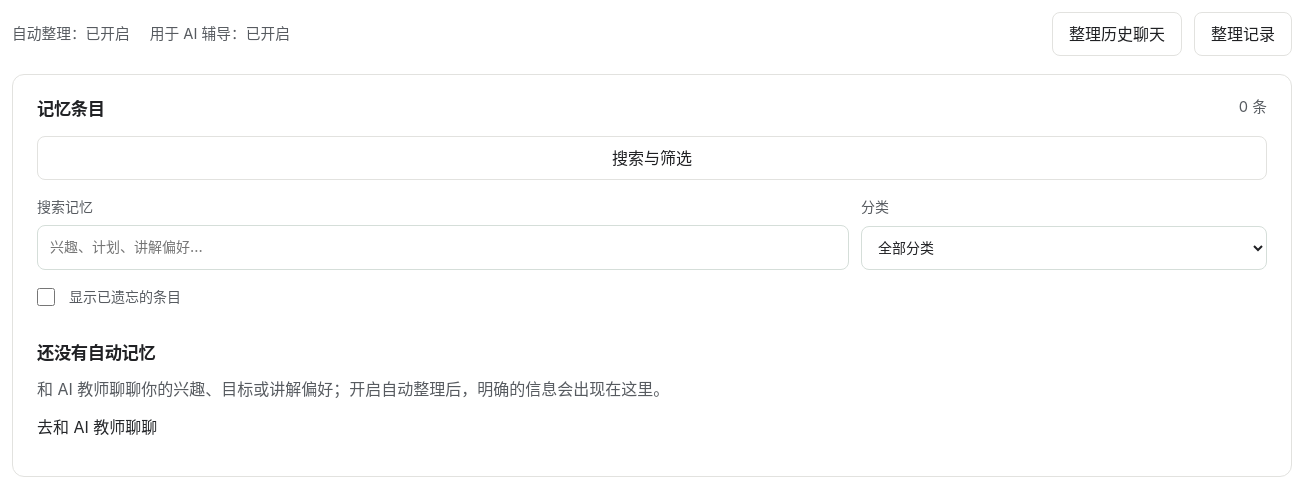
it: distinguishes empty memory from filter misses and hides unnecessary pagination
The image size is (1304, 494).
Check: the heading "还没有自动记忆" is shown, box [37,340,156,364]
In the search field: [443, 248] box [37,226,849,270], type "不存在"
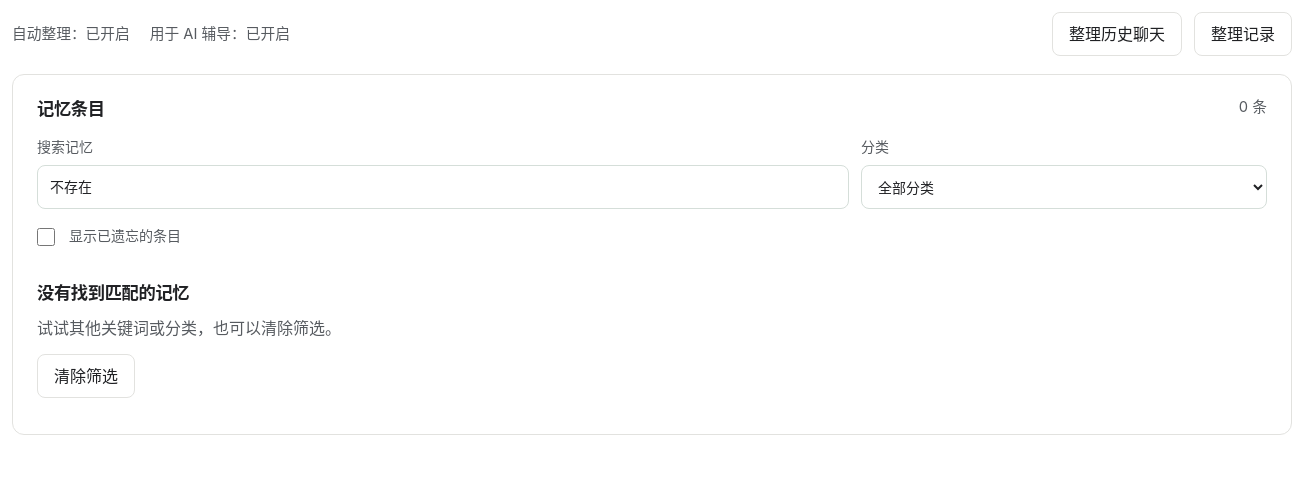
Check: the heading "没有找到匹配的记忆" is shown, box [37,280,189,303]
Click the button "清除筛选": [86, 376] box [37,354,135,398]
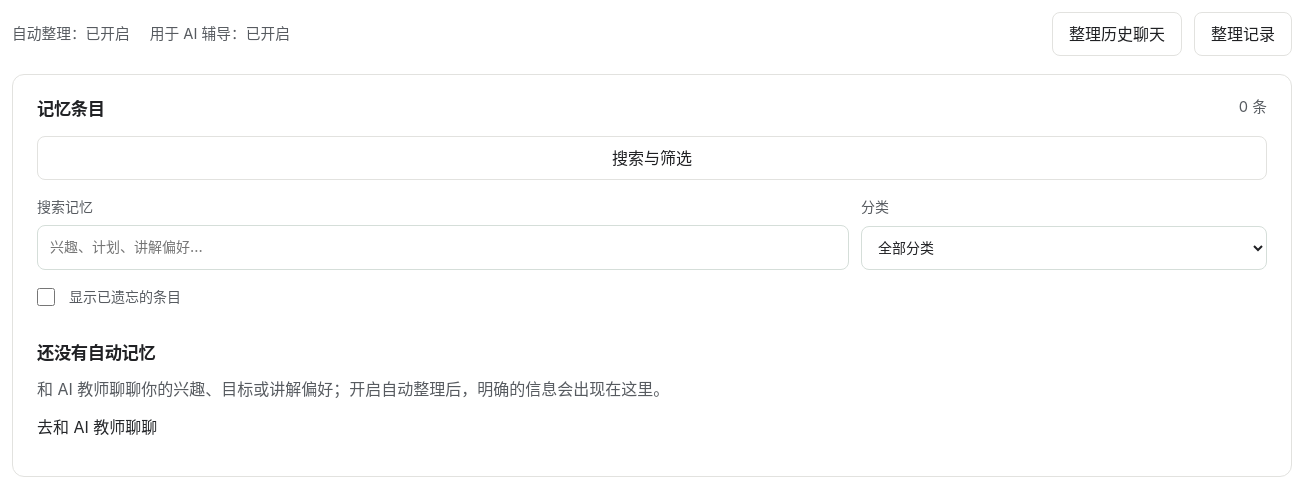
Check: the heading "还没有自动记忆" is shown, box [37,340,156,364]
